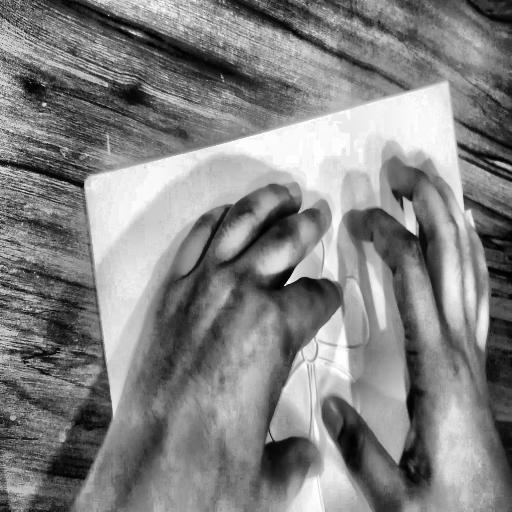flower: (206, 184, 404, 512)
top_left: (80, 176, 90, 193)
top_right: (442, 71, 454, 93)
